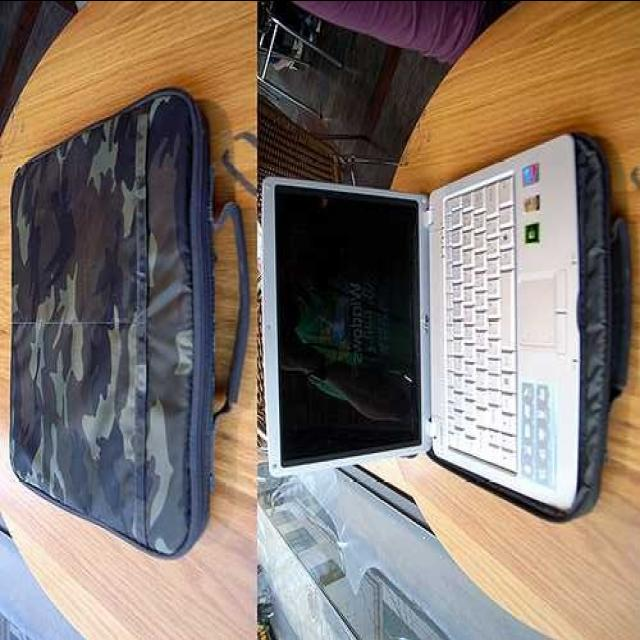laptop: (261, 128, 623, 510)
